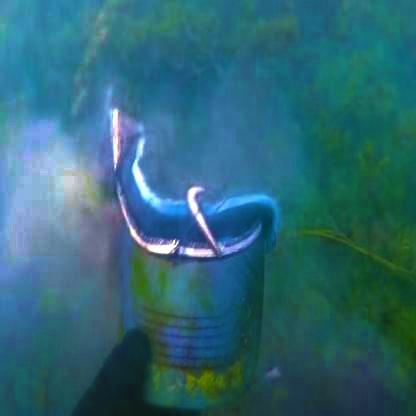misc: (97, 124, 274, 402)
